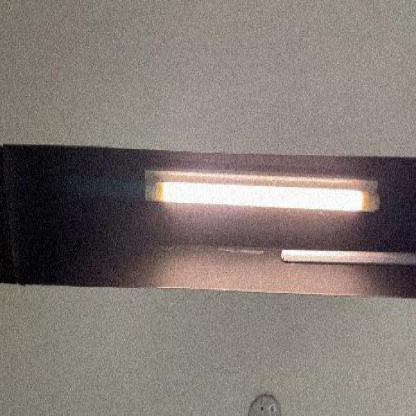light_on: (131, 153, 387, 227)
